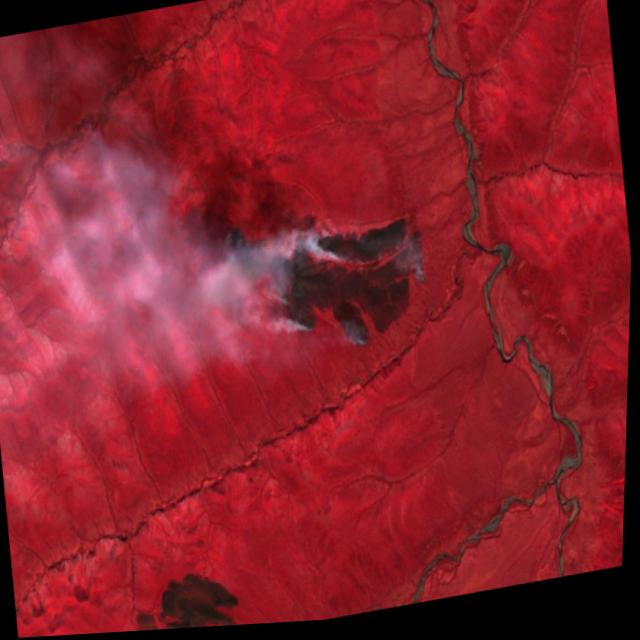fire: (211, 188, 443, 379)
